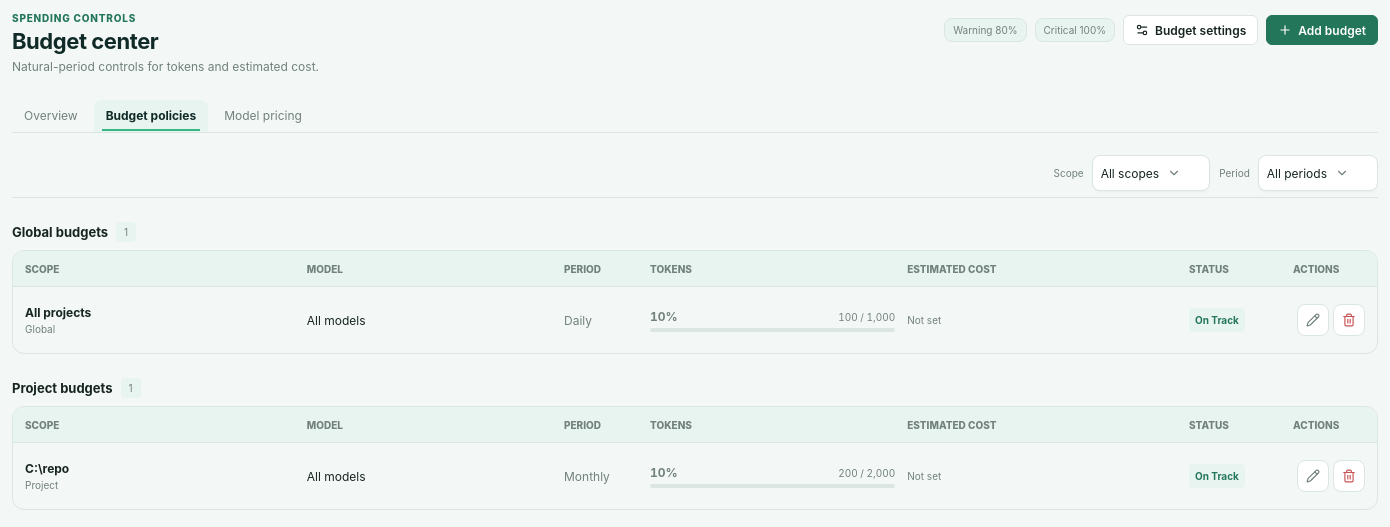
Test: BudgetsView model options › filters budget policies through the accessible scope and period menus
Expected: the heading "Global budgets" is shown, [12,224,108,240]
Expected: the heading "Project budgets" is shown, [12,380,112,396]
Click the dropdown labelled "scope".
click(1151, 173)  # box [1092,155,1210,191]
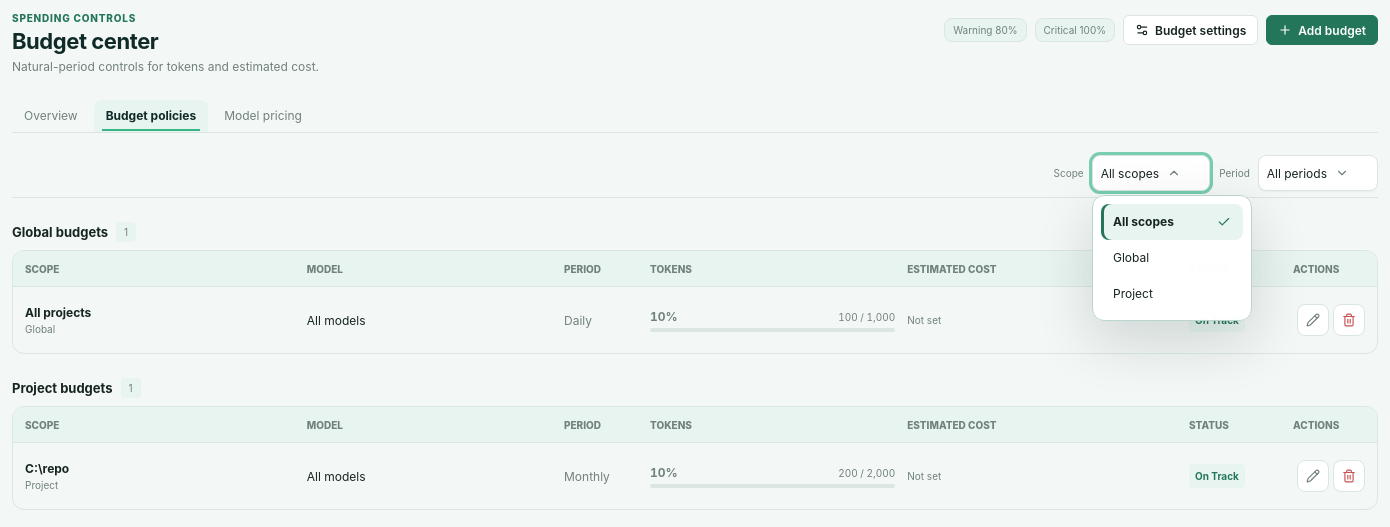
Click the option "Project".
click(1172, 294)  # box [1101,276,1243,312]
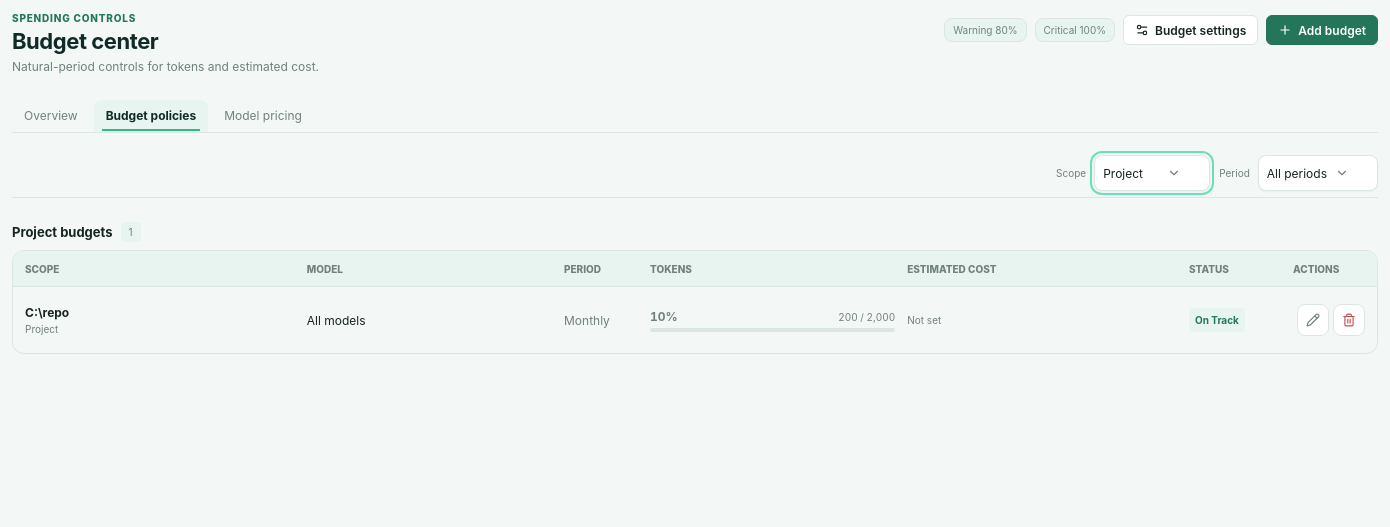
Expected: the heading "Project budgets" is shown, [12,224,112,240]
Now the heading "Global budgets" is gone
Click the dropdown labelled "period".
click(1318, 173)  # box [1258,155,1378,191]
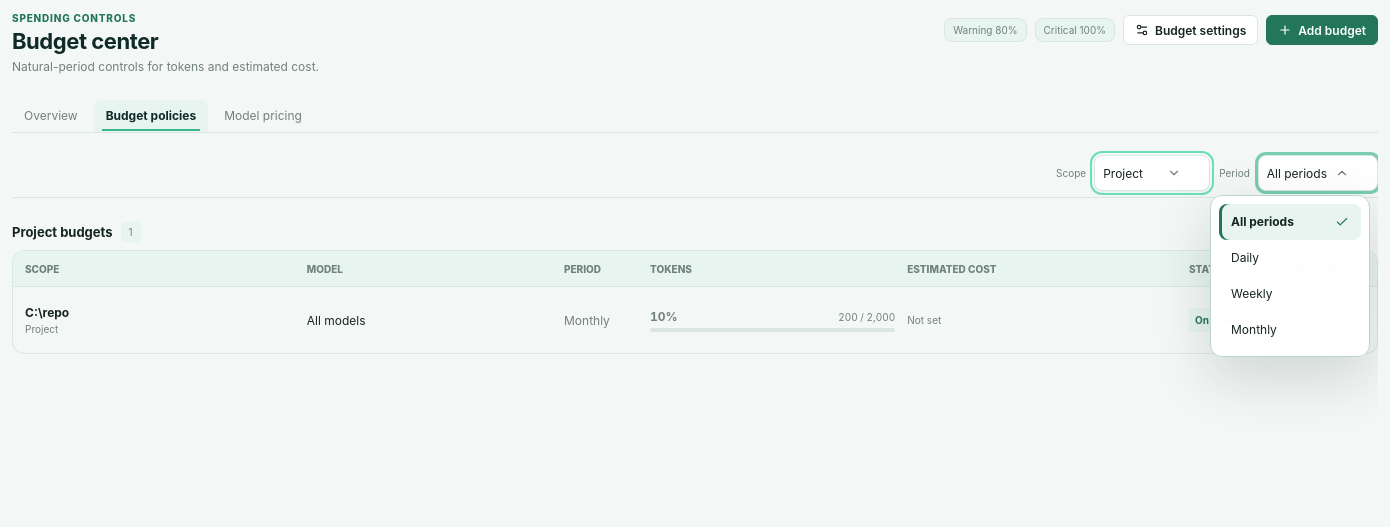
Click the option "Daily".
click(1290, 258)  # box [1219,240,1361,276]
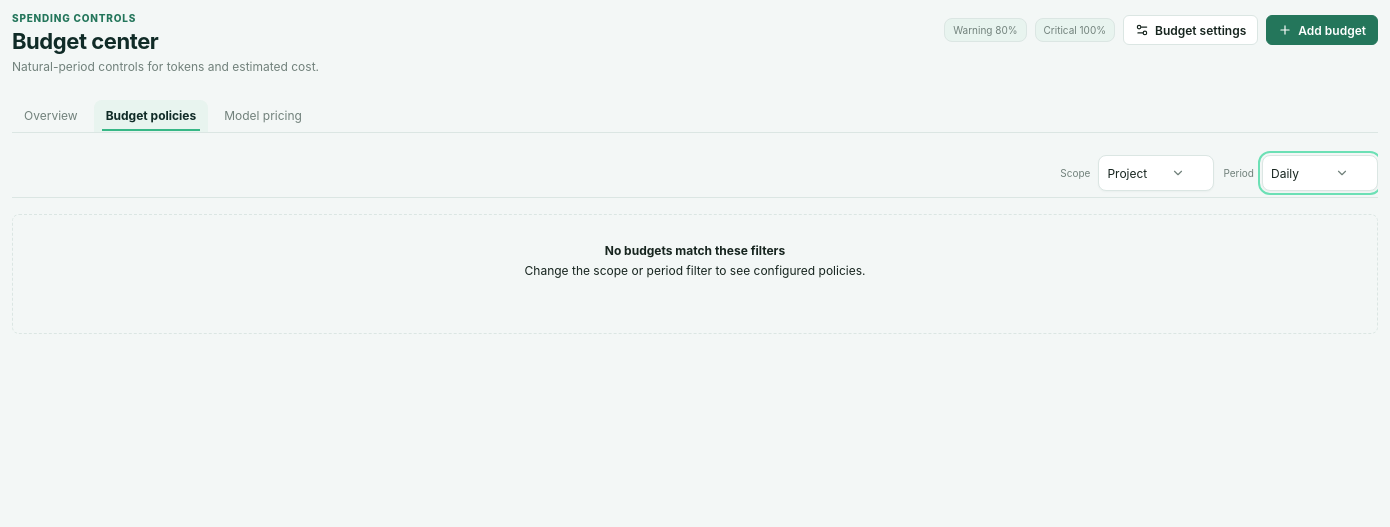
Now the heading "Project budgets" is gone
Now the heading "No budgets match these filters" is shown, box [605,243,785,258]
